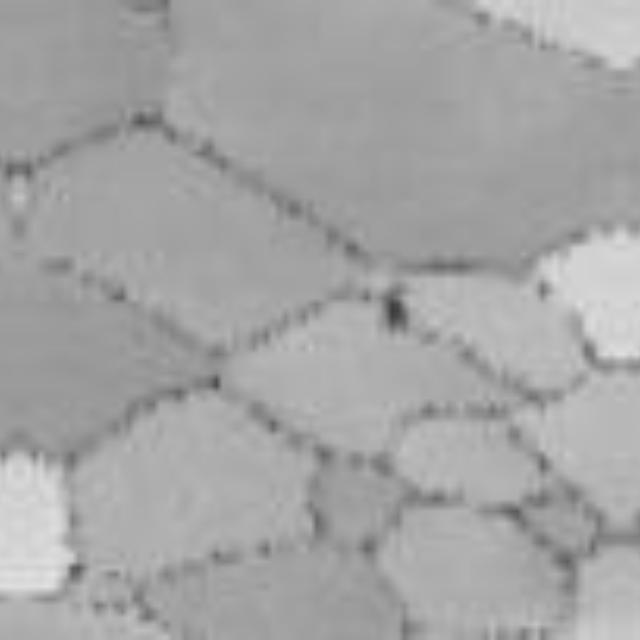good_void: (376, 281, 416, 340)
